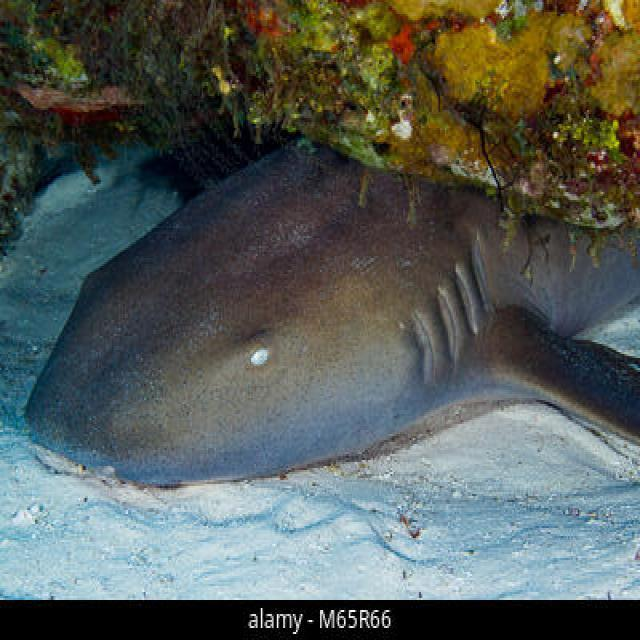Shark: (16, 86, 640, 510)
